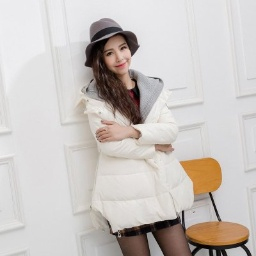face: (84, 30, 142, 93)
